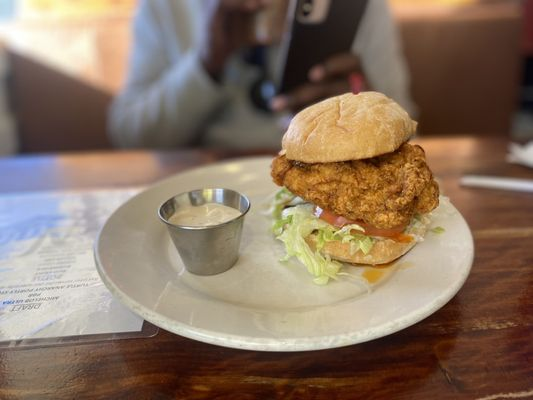soup: (268, 91, 441, 285)
sushi: (158, 187, 252, 277)
